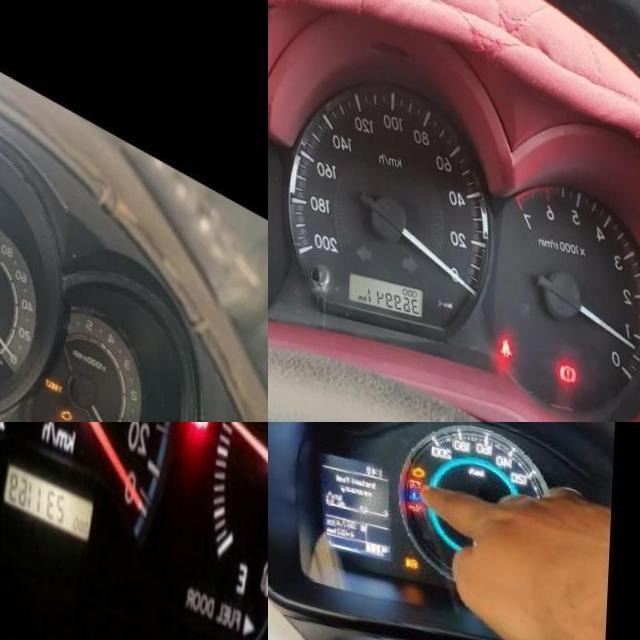Engine cooling system: (412, 475, 421, 486)
Seat Belt: (504, 313, 517, 338)
